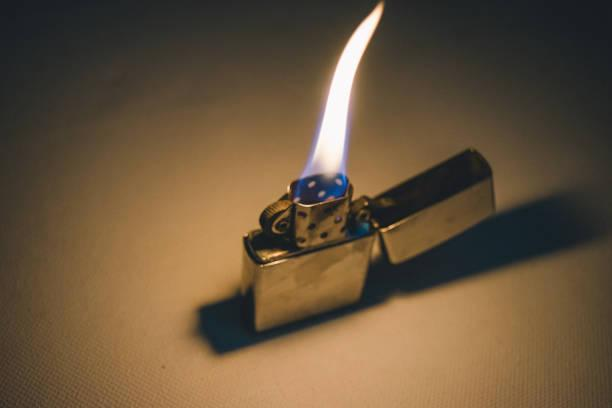Fire: (296, 2, 387, 199)
